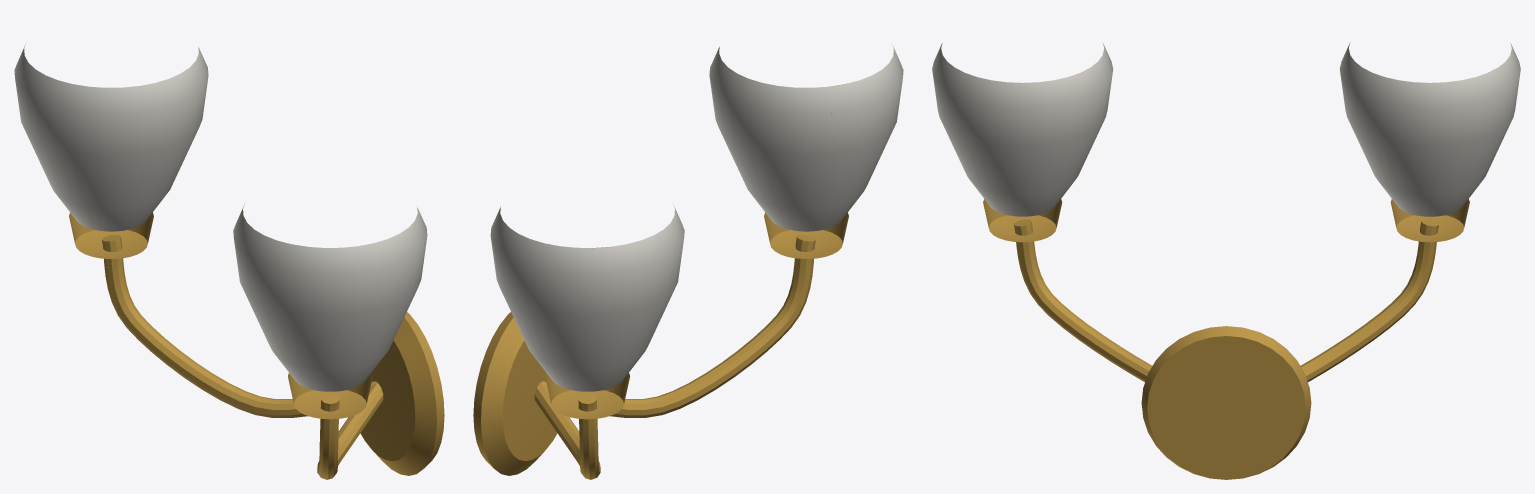
Rendered from SM_CR_Sconce.glb.
3 views of the same model, side by side, from view 1: azimuth 30°, elevation 25°; view 2: azimuth 150°, elevation 25°; view 3: azimuth 270°, elevation 25° (orthographic). The views are drawn at different scales.
Parts seen in each view (by area): view 1: SM_CR_Sconce; view 2: SM_CR_Sconce; view 3: SM_CR_Sconce.
Boxes of the visible parts, <box> form: SM_CR_Sconce: <box>14,45,444,479</box>; SM_CR_Sconce: <box>473,45,903,479</box>; SM_CR_Sconce: <box>932,42,1520,479</box>.
Size of the model in its own units: 0.252 by 0.345 by 0.52.
Materials: 2 (2 with a texture image).
